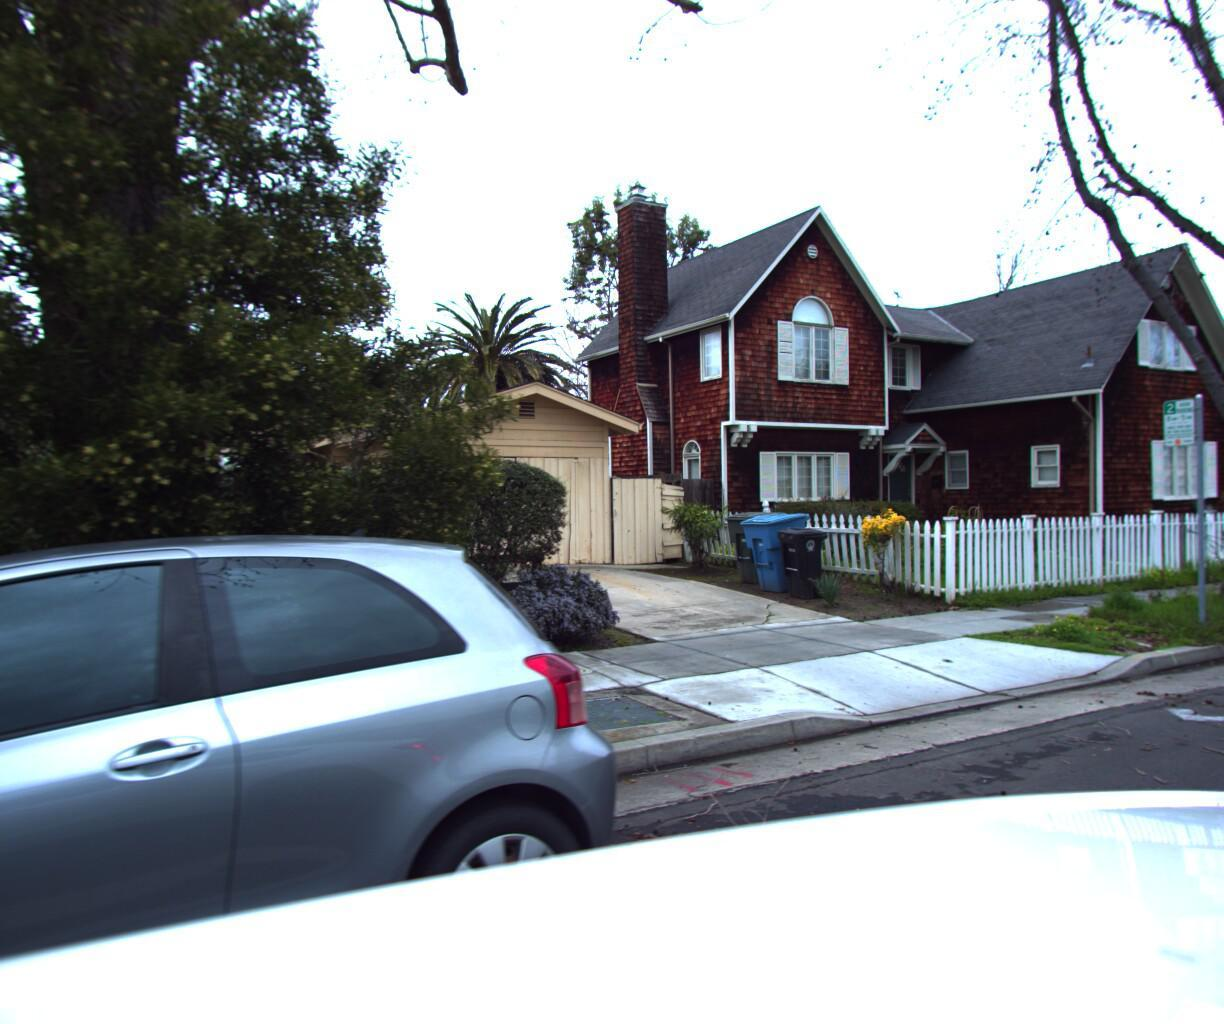car: (0, 511, 679, 1024)
